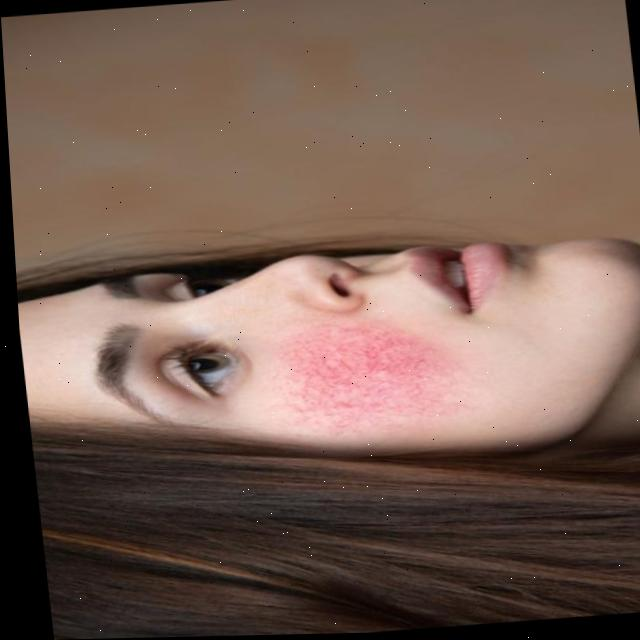Rosacea: (287, 296, 449, 429)
